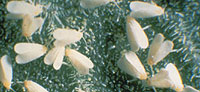whitefly: (116, 51, 152, 86), (145, 32, 174, 71), (63, 43, 93, 76), (124, 16, 149, 51), (5, 1, 44, 20), (45, 38, 67, 71), (159, 62, 183, 92), (52, 28, 85, 49), (14, 42, 46, 63), (129, 1, 165, 18), (143, 69, 170, 89), (1, 54, 13, 92)
